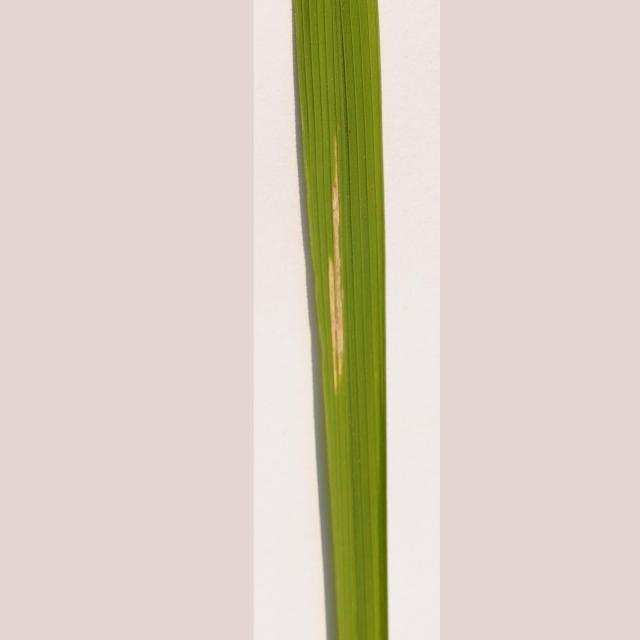leaf blight: (300, 131, 376, 409)
